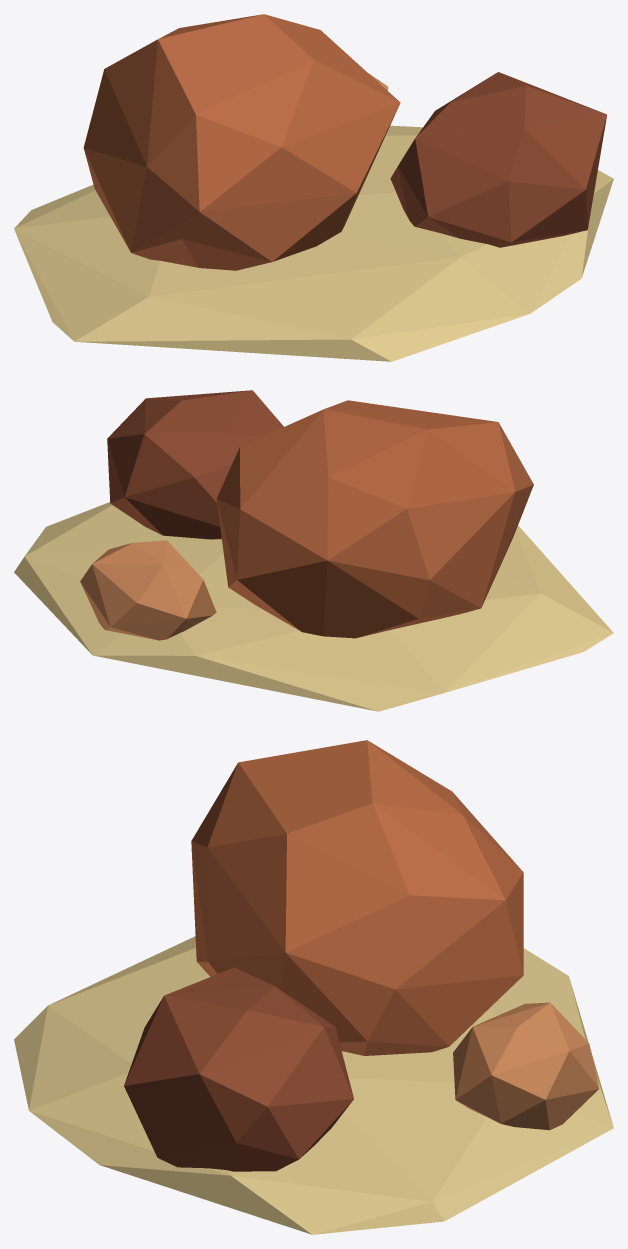
The model's file is rocher_desert_3.glb.
3 views of the same model, one above another, from view 1: azimuth 30°, elevation 25°; view 2: azimuth 150°, elevation 25°; view 3: azimuth 270°, elevation 25° (orthographic). The views are drawn at different scales.
Parts seen in each view (by area): view 1: roche_sable.002, roche_gres.006, roche_gres_sombre.006; view 2: roche_gres.006, roche_sable.002, roche_gres_sombre.006, roche_gres_clair.006; view 3: roche_gres.006, roche_sable.002, roche_gres_sombre.006, roche_gres_clair.006.
Part boxes in pixels (box(x1,y1,x2,y2)): roche_sable.002: box(14, 125, 613, 361); roche_gres.006: box(83, 14, 400, 270); roche_gres_sombre.006: box(390, 72, 606, 247); roche_gres.006: box(216, 400, 533, 638); roche_sable.002: box(14, 502, 613, 711); roche_gres_sombre.006: box(107, 390, 283, 539); roche_gres_clair.006: box(80, 540, 216, 640); roche_gres.006: box(191, 740, 523, 1055); roche_sable.002: box(14, 936, 613, 1234); roche_gres_sombre.006: box(124, 967, 353, 1171); roche_gres_clair.006: box(453, 1002, 599, 1130).
Bounding box in the file's own units: 0.9905 × 0.3748 × 0.7942.
